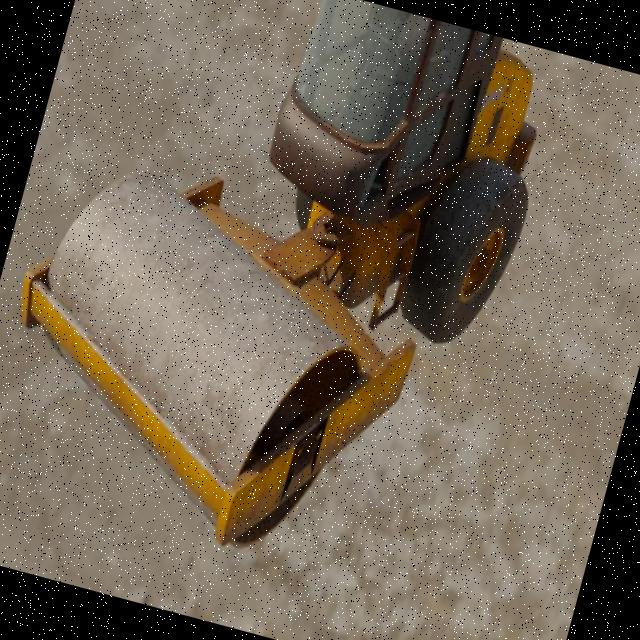Roller: (0, 0, 568, 602)
